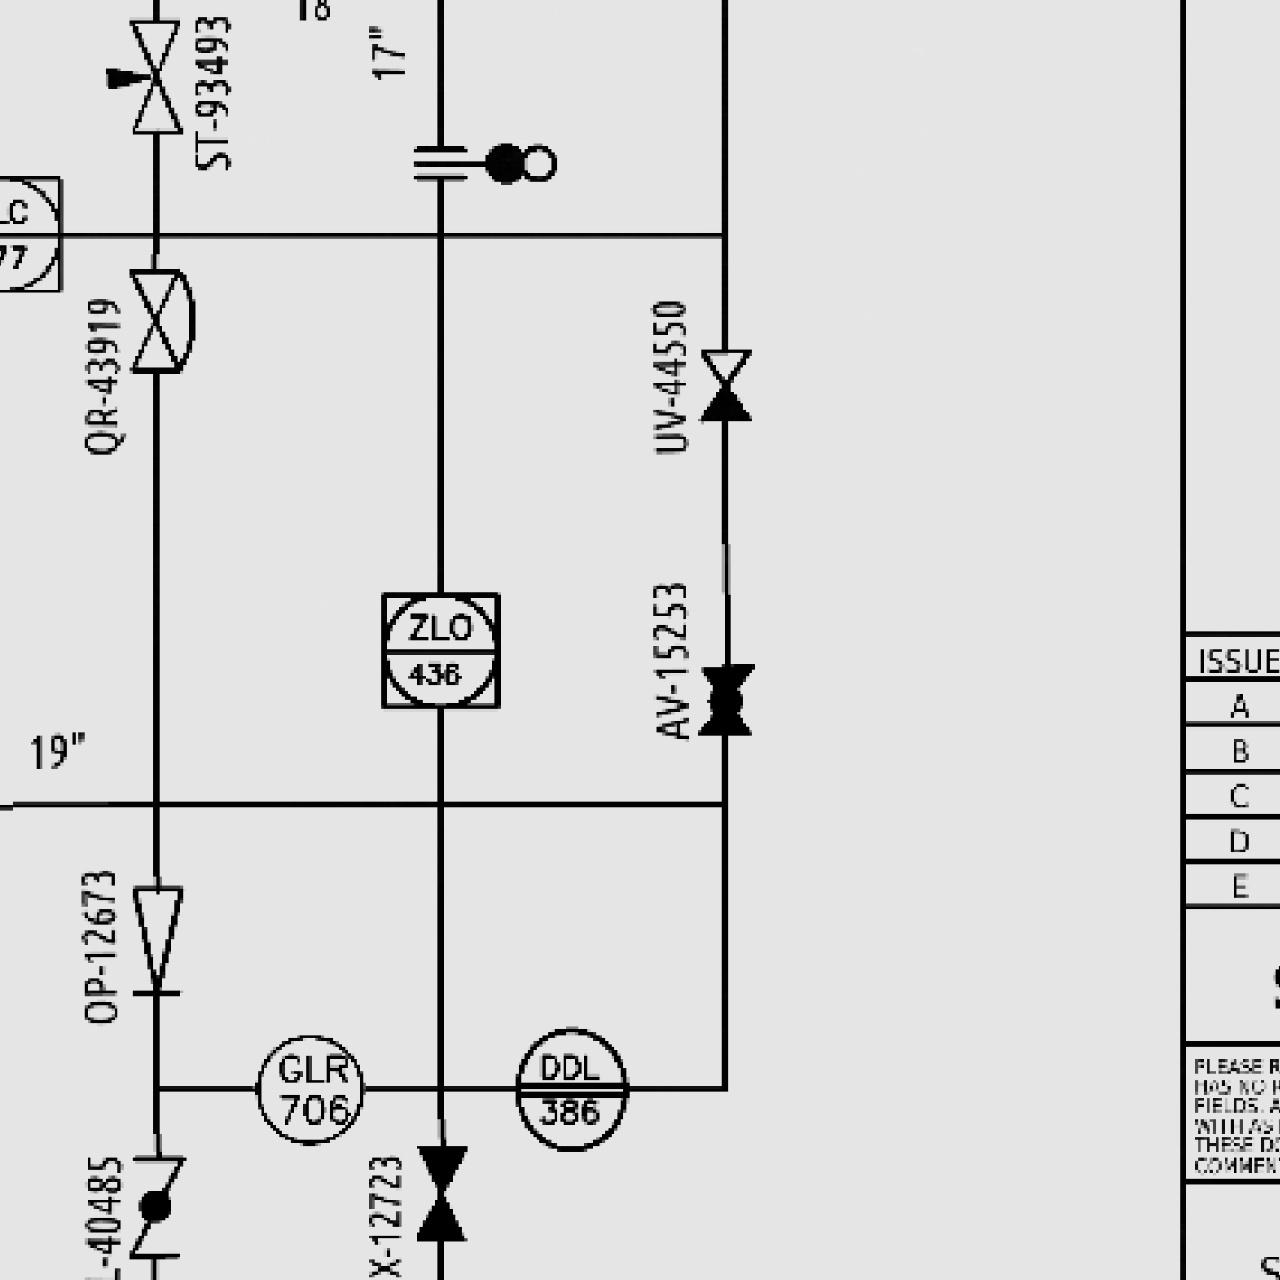Control-Panel: (505, 1023, 636, 1155)
Half closed valve: (694, 343, 755, 425)
